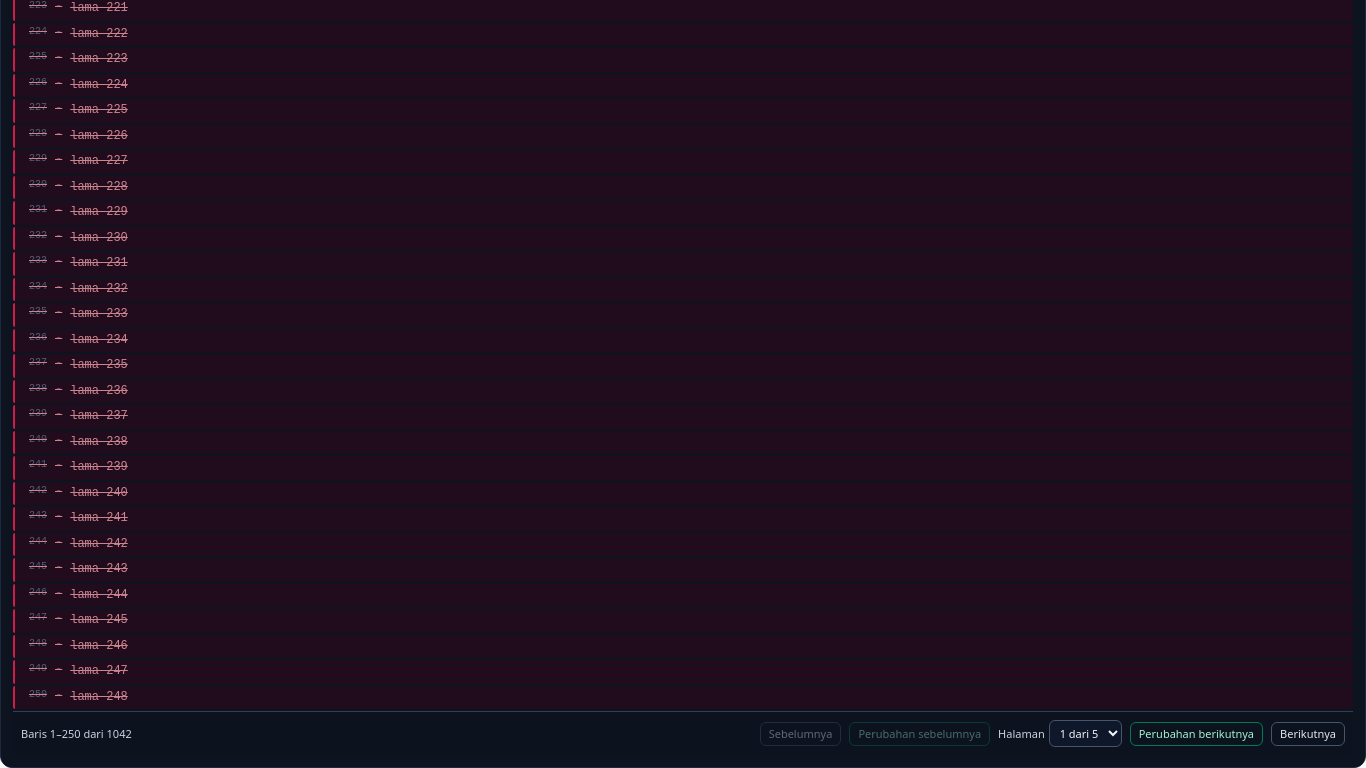
it: ArtifactDiffViewer › keeps the full diff reachable while rendering only one page at a time
(page scrolled)
Expected: the text "Baris 1–250 dari 1042" is shown, x1=21 y1=727 x2=132 y2=741
Select "5 dari 5" in the dropdown named "Halaman perbandingan": [1085, 734] box x1=1049 y1=720 x2=1122 y2=747
(page scrolled)
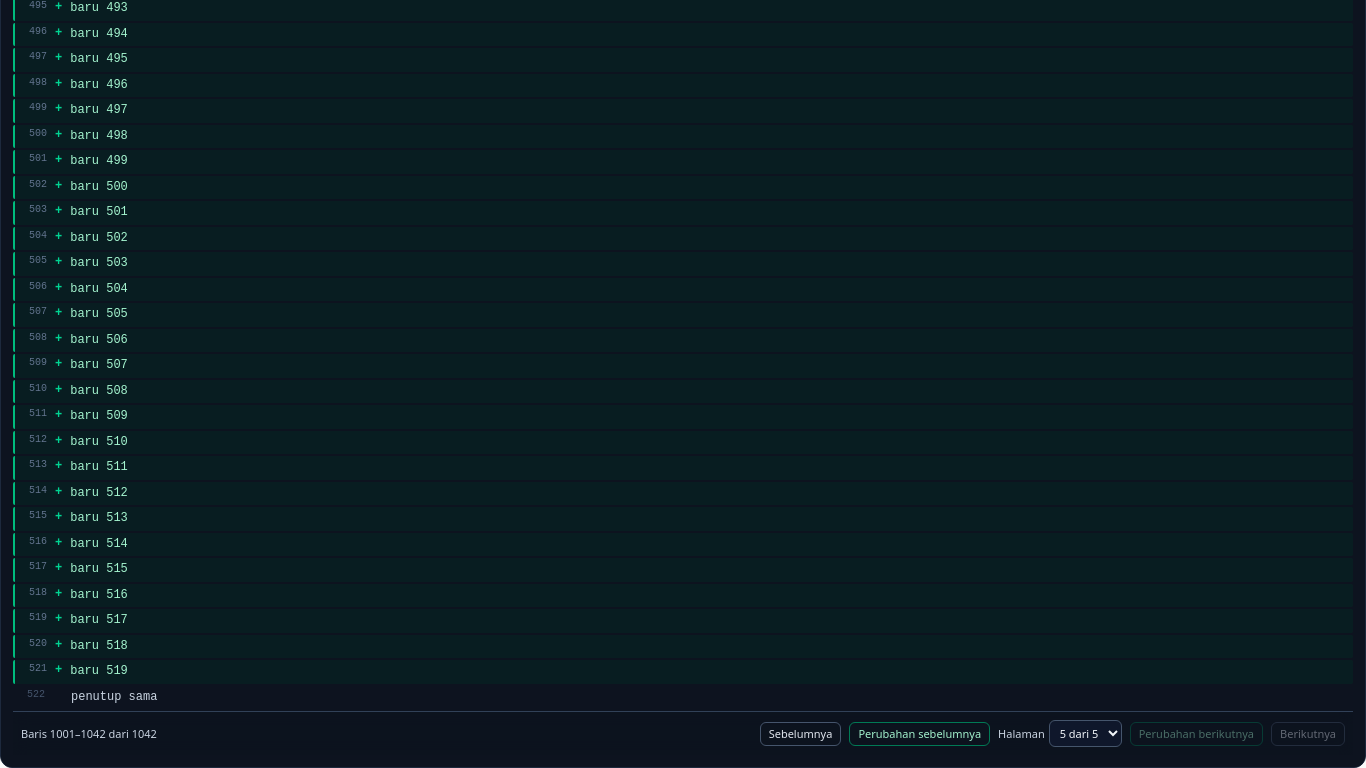
Result: the text "Baris 1001–1042 dari 1042" is shown at x1=21 y1=727 x2=157 y2=741
Result: the text "baru 519" is shown at x1=70 y1=664 x2=128 y2=678
